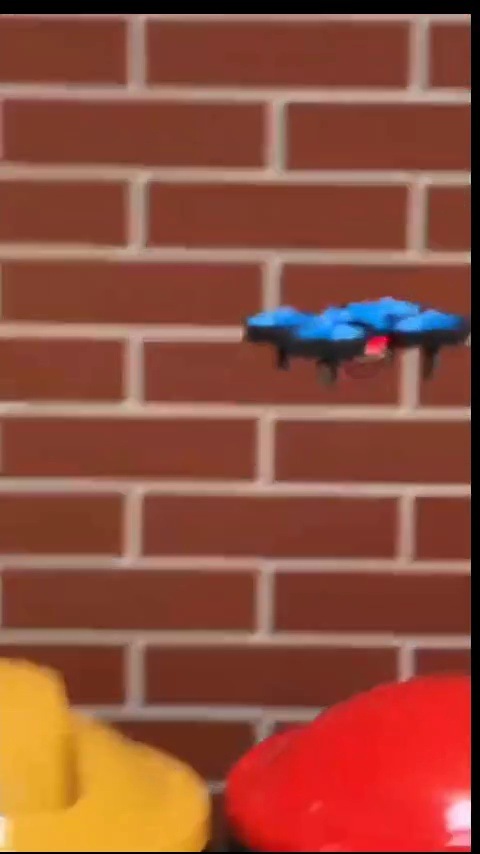drone: (242, 290, 463, 379)
